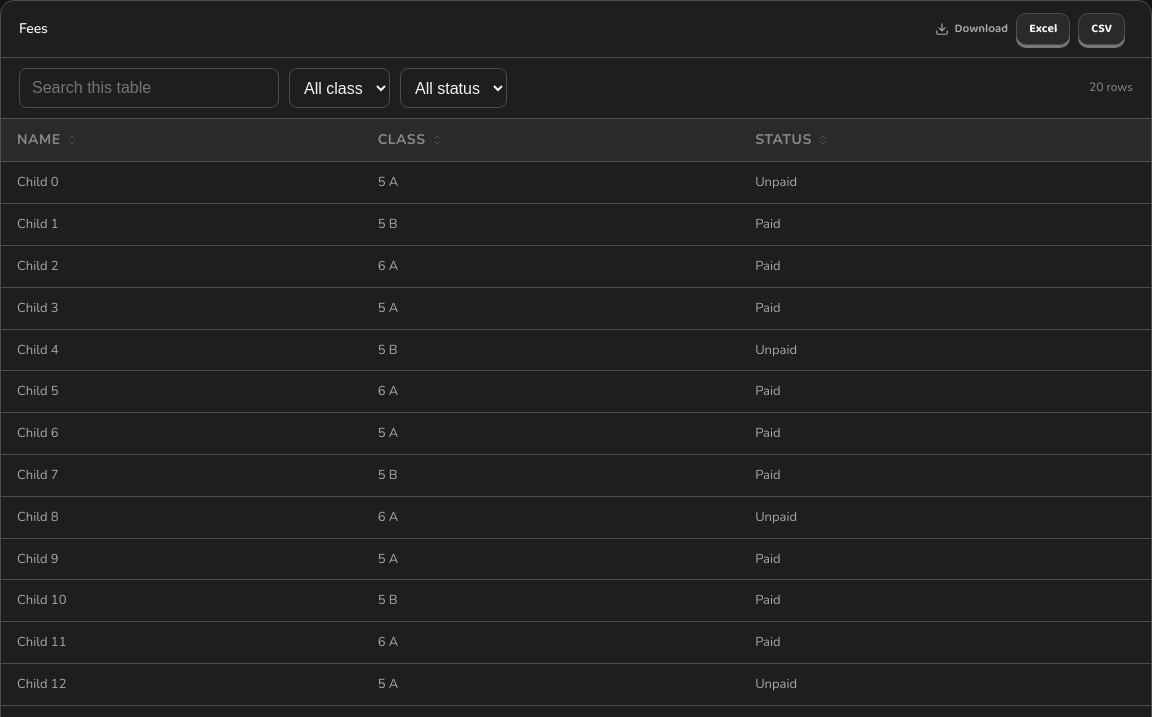
Scenario: two filters together narrow further, and Clear puts everything back
Select "5 A" in the dropdown with test id "t-filter-1" at (340, 88), box [289,68,390,108]
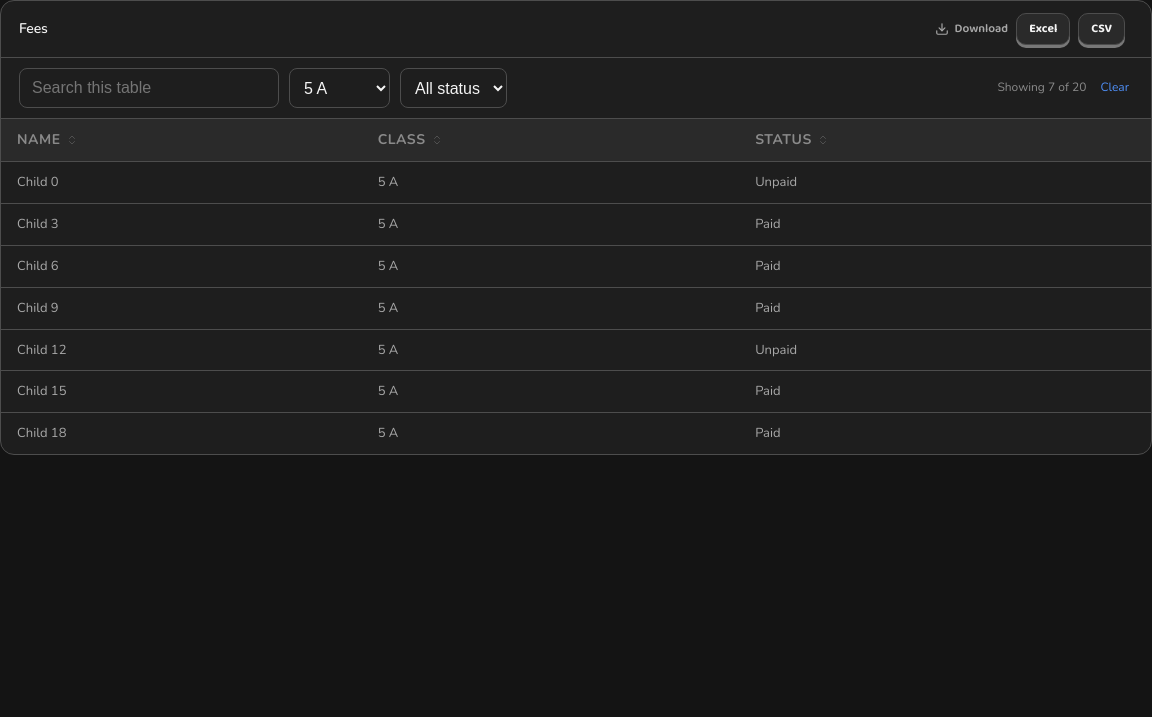
Select "Unpaid" in the dropdown with test id "t-filter-2" at (454, 88), box [400,68,507,108]
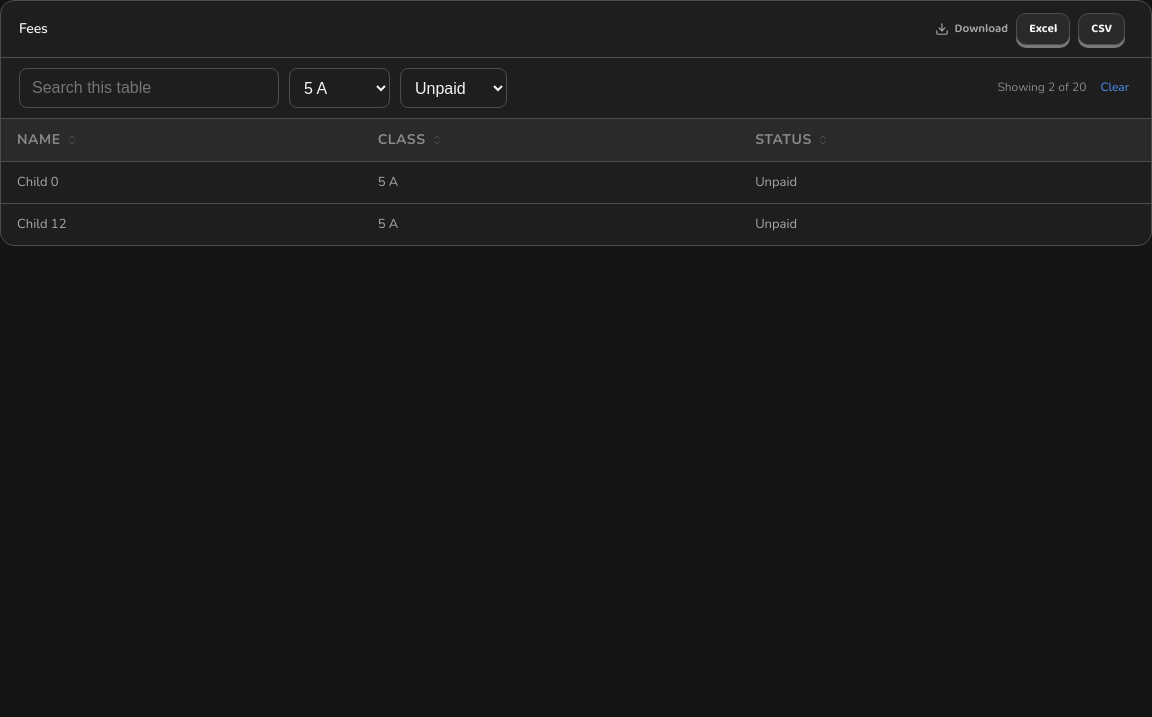
Check: the text with test id "t-filter-count" reads "Showing 2 of 20", box [997,79,1086,95]
Click the button with test id "t-filter-clear" at (1115, 88), box [1096,68,1133,108]
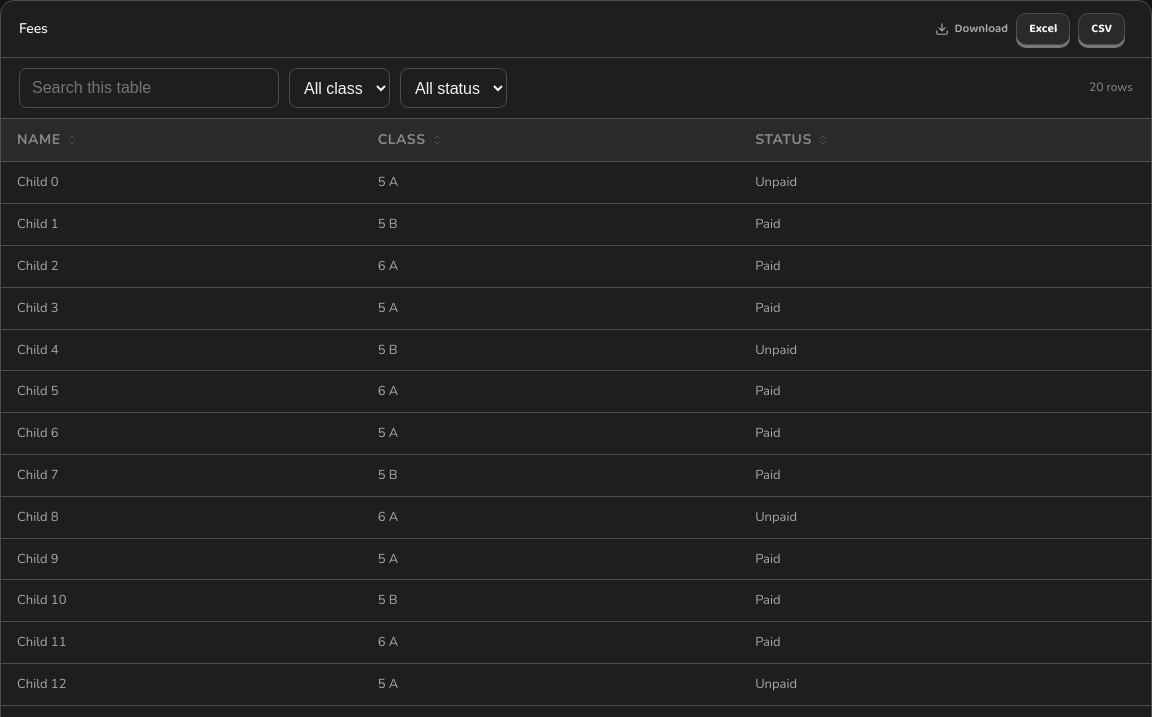
Check: the text with test id "t-filter-count" reads "20 rows", box [1089,79,1133,95]
